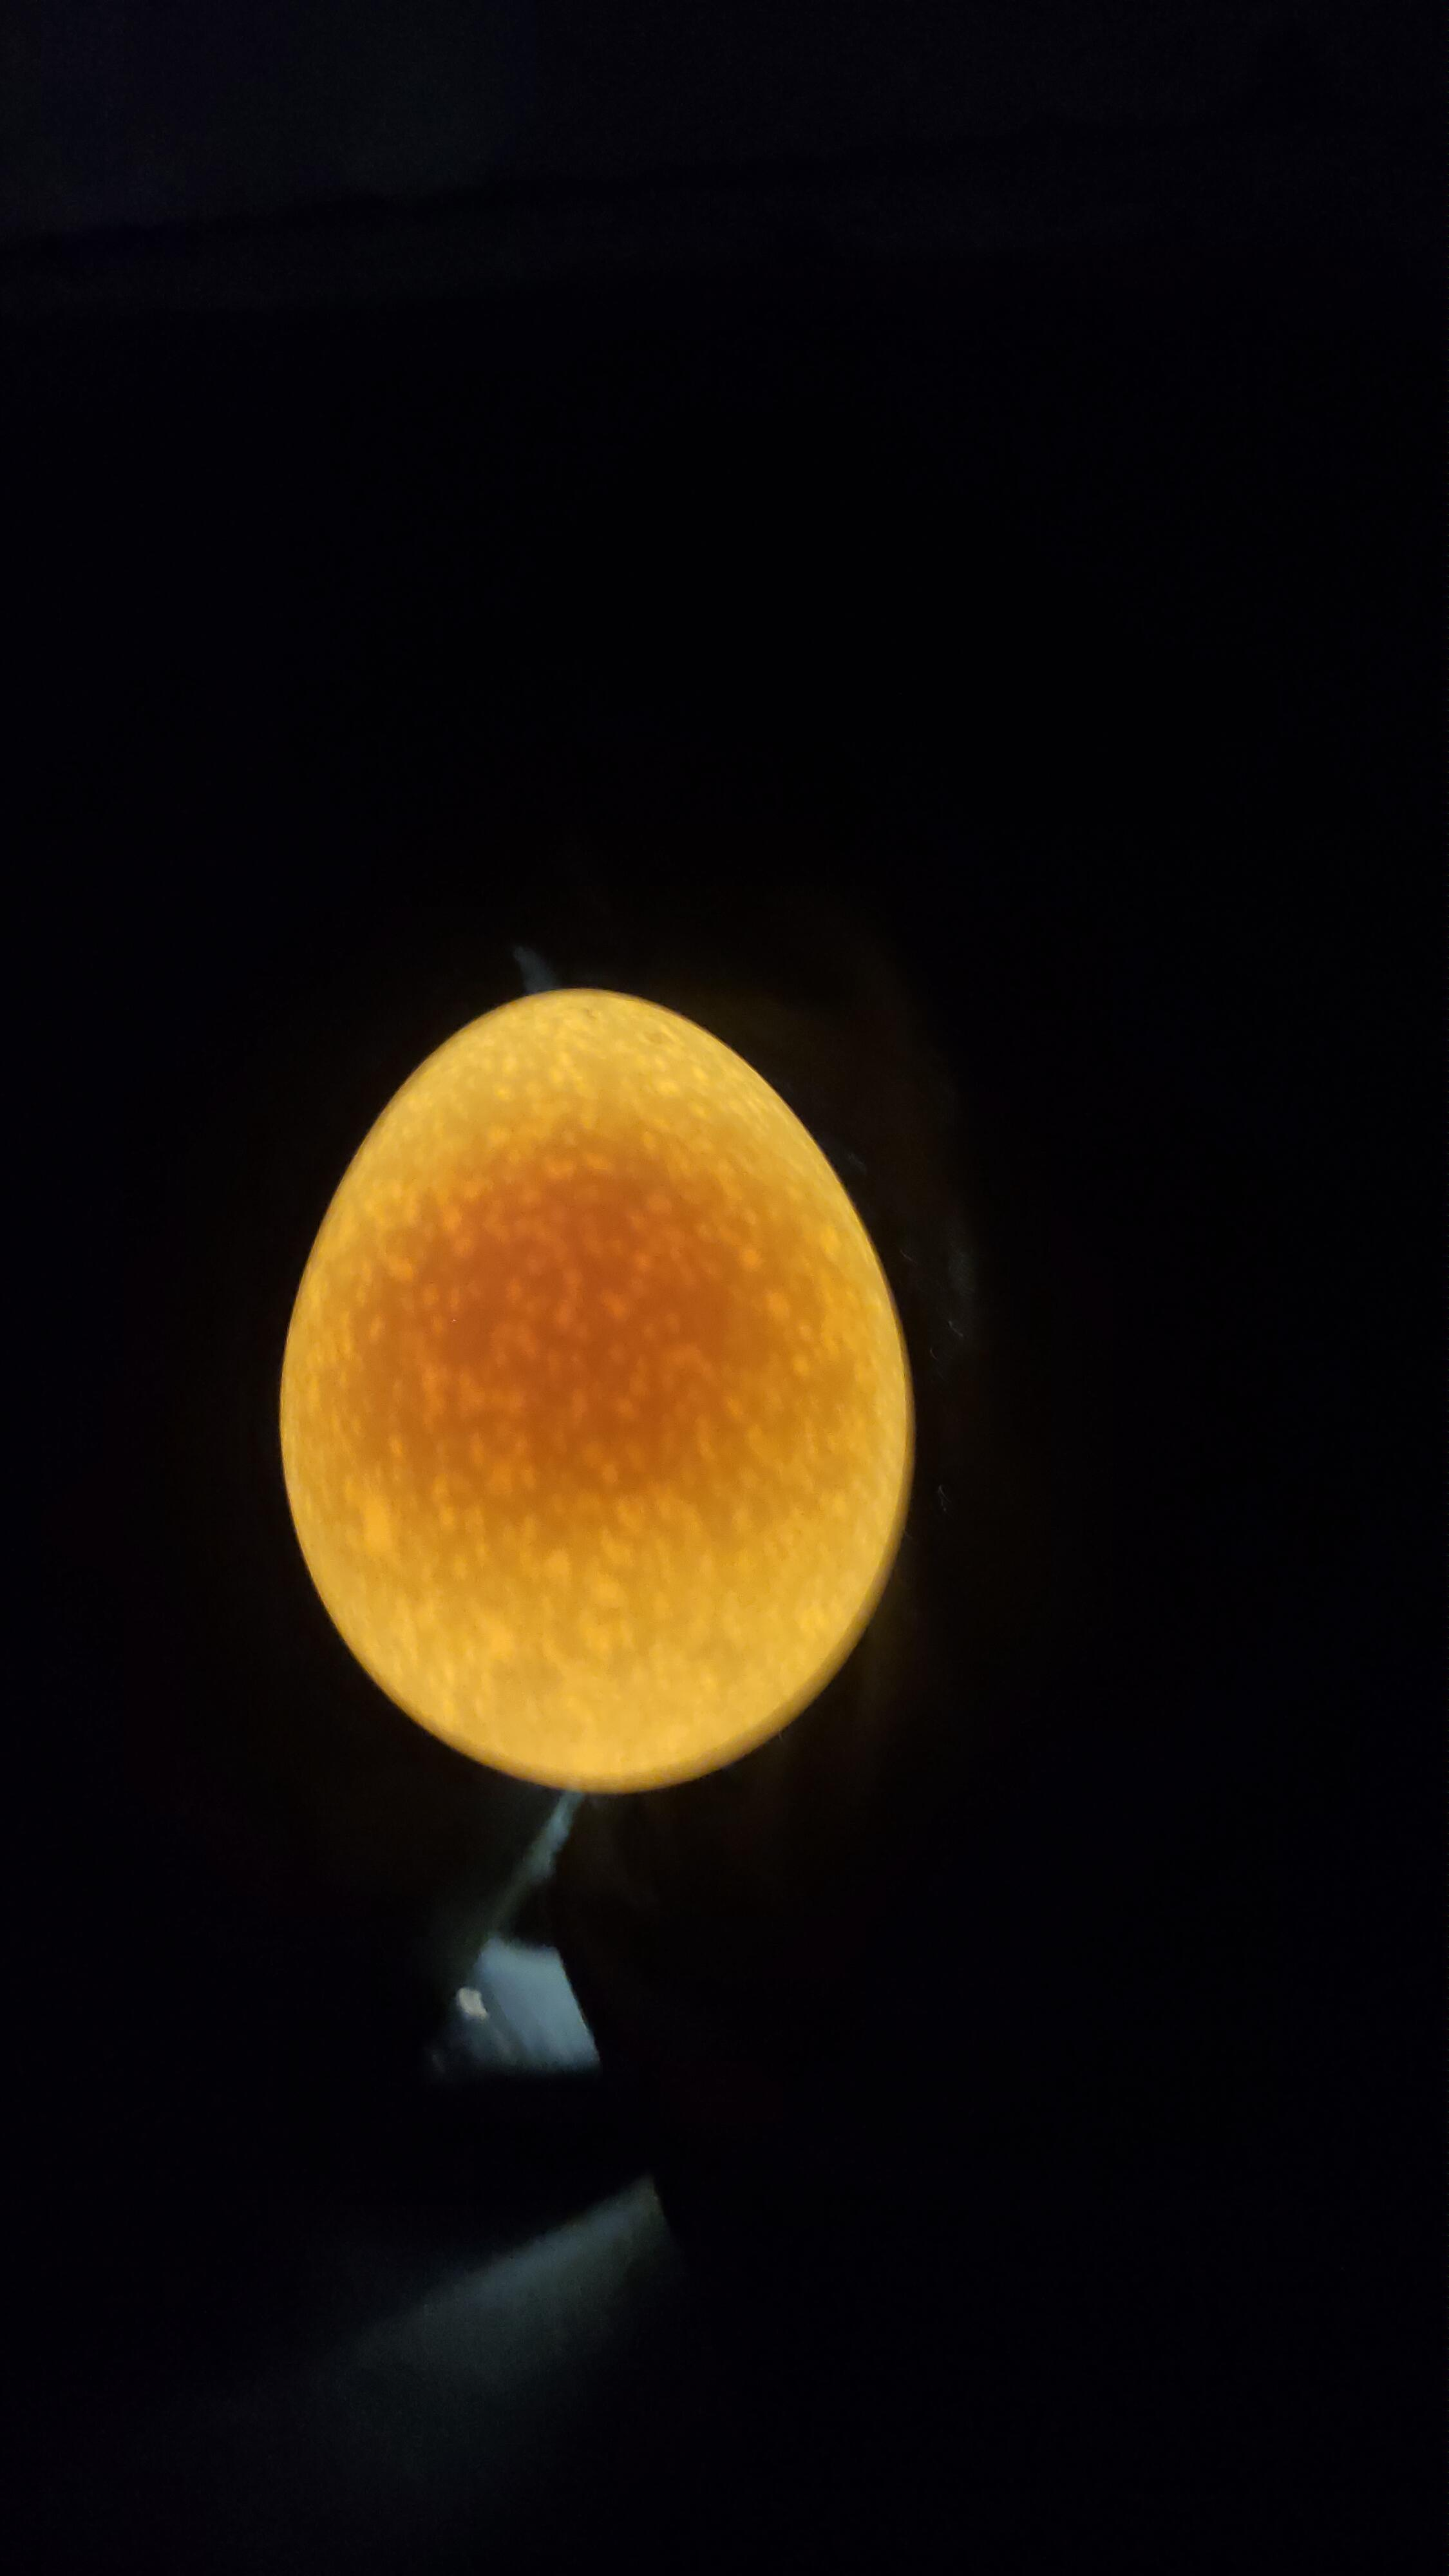A - Good: (205, 927, 1030, 1849)
